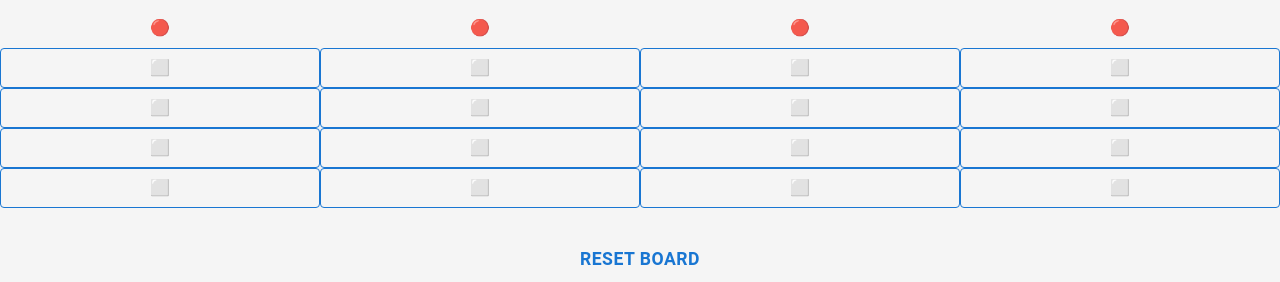
it: GameBoard - Core Functionality › should handle column click and drop piece
The image size is (1280, 282).
Click on first column
Click the 1st text "🔴".
click(160, 28)  # box [150, 16, 170, 40]
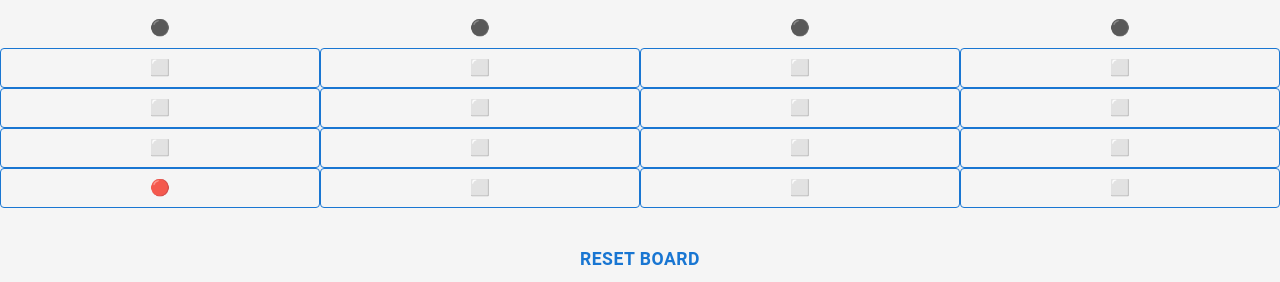
Check: the text "🔴" is shown, box [150, 176, 170, 200]
